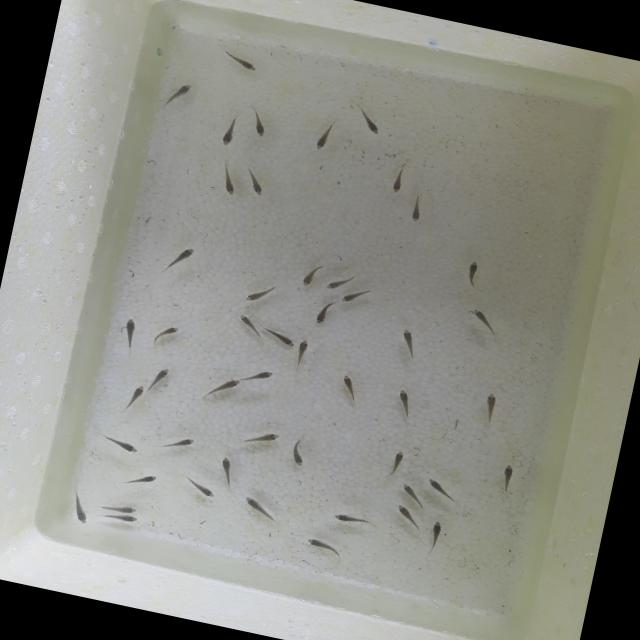fingerling: (200, 372, 242, 408), (160, 78, 194, 115), (218, 48, 262, 75), (458, 257, 490, 294), (466, 306, 504, 336), (304, 534, 347, 560), (98, 432, 142, 456), (179, 474, 218, 501), (312, 116, 338, 156), (217, 160, 244, 198), (116, 468, 158, 492), (158, 431, 198, 456), (240, 164, 269, 198), (333, 370, 363, 402), (394, 326, 422, 360), (117, 316, 145, 350), (332, 510, 378, 530), (245, 106, 272, 140), (240, 496, 278, 520), (423, 518, 449, 553), (166, 242, 196, 272), (354, 108, 386, 136), (233, 312, 267, 338), (391, 385, 416, 420), (320, 268, 353, 294), (216, 116, 241, 150), (70, 492, 94, 526), (296, 260, 321, 292), (392, 502, 422, 528), (241, 426, 278, 447), (382, 447, 406, 479), (100, 508, 142, 526), (479, 391, 501, 425), (422, 475, 454, 498), (215, 452, 238, 484), (153, 321, 182, 346), (286, 438, 310, 468), (100, 499, 140, 517), (311, 299, 335, 327), (243, 284, 272, 307), (496, 462, 518, 492), (398, 482, 426, 505), (406, 190, 426, 222), (337, 286, 367, 307), (291, 336, 310, 369), (246, 364, 277, 384), (148, 365, 170, 391), (124, 384, 144, 412), (268, 330, 296, 350), (390, 163, 407, 194)
